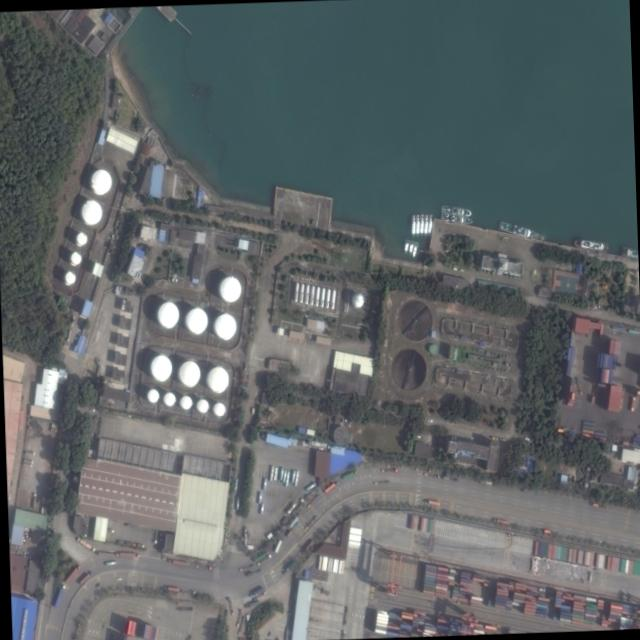large-vehicle: (76, 537, 94, 552), (64, 566, 79, 584), (53, 585, 64, 607), (303, 516, 317, 531), (305, 493, 318, 508), (288, 514, 300, 528), (256, 554, 270, 566), (78, 572, 91, 584), (324, 481, 337, 493), (248, 587, 262, 598), (167, 559, 188, 566), (341, 471, 356, 480), (119, 552, 139, 558), (238, 564, 253, 572), (286, 502, 295, 514), (273, 540, 281, 553), (425, 499, 439, 506), (163, 586, 179, 592), (305, 482, 315, 491), (492, 518, 506, 524), (195, 565, 211, 570), (284, 471, 289, 487), (293, 471, 298, 486), (290, 470, 295, 483), (269, 465, 273, 481), (22, 458, 32, 464), (31, 493, 35, 508), (279, 467, 283, 481), (105, 561, 116, 566), (273, 467, 277, 480), (282, 470, 286, 482), (262, 478, 266, 490), (257, 492, 261, 504), (259, 502, 263, 514), (380, 469, 396, 472), (21, 462, 30, 467), (24, 451, 34, 455)
ship: (498, 221, 542, 240), (572, 238, 607, 253), (440, 204, 471, 218), (440, 213, 472, 226), (423, 214, 428, 238), (427, 214, 432, 237), (410, 241, 417, 257), (407, 240, 414, 255), (419, 214, 423, 237), (415, 214, 419, 237), (410, 215, 414, 238), (402, 239, 408, 254)
storage-tank: (149, 355, 172, 381), (214, 313, 236, 339), (219, 276, 241, 302), (185, 308, 207, 334), (89, 168, 111, 194), (178, 361, 200, 386), (207, 366, 228, 392), (157, 302, 178, 328), (80, 199, 101, 225), (332, 425, 349, 446), (350, 293, 363, 307), (163, 392, 175, 406), (212, 402, 224, 416), (69, 251, 81, 264), (147, 389, 158, 403), (180, 395, 191, 409), (196, 399, 207, 412), (75, 232, 86, 245), (64, 272, 74, 284)
